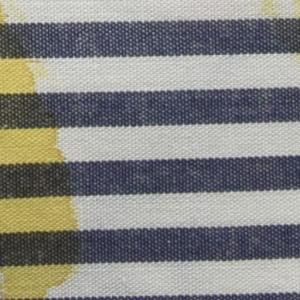Stain: (1, 1, 87, 300), (260, 1, 300, 55)
